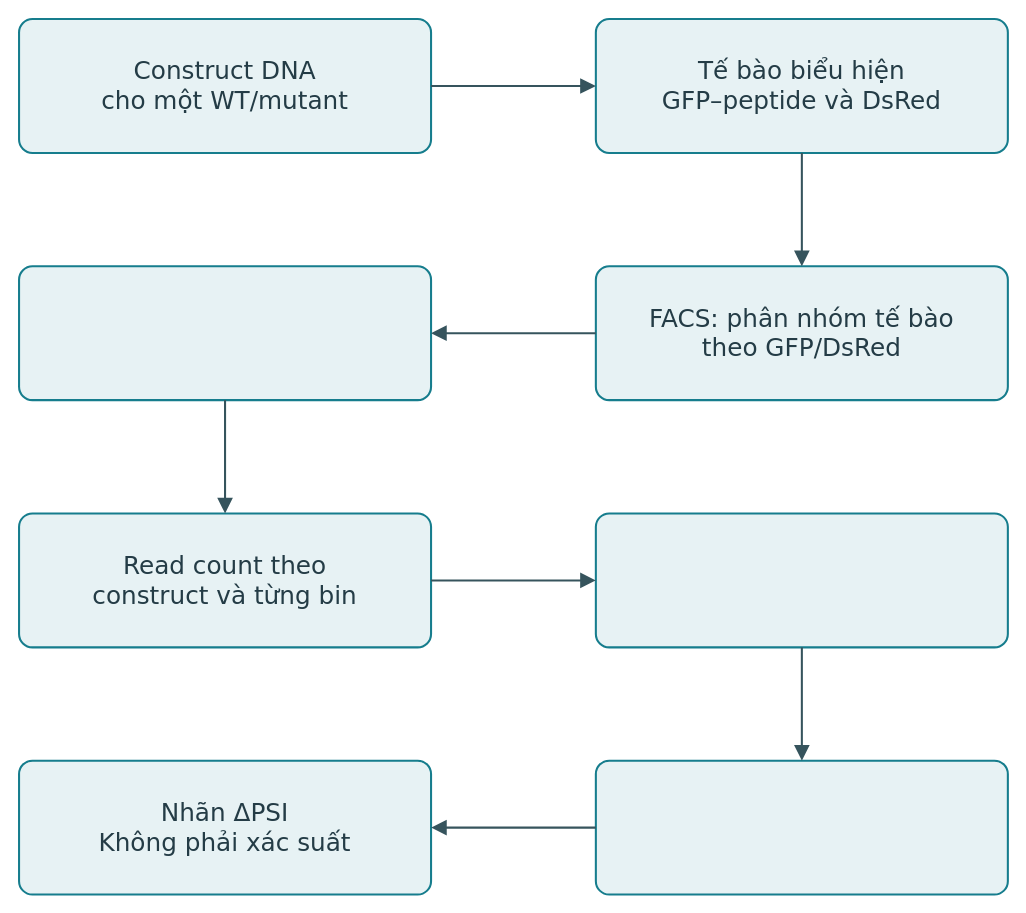
Image size: 1026x913. Some labels were removed from this diagram. Each missing label, with the centre of its shape:
"Chuẩn hóa count Tính PSI riêng mỗi lần đo" belongs at (x=801, y=580).
"Thu sáu bin riêng DNA → PCR → giải trình tự" belongs at (x=225, y=333).
"WT đúng cùng điều kiện Lấy hiệu mutant − WT" belongs at (x=801, y=827).
